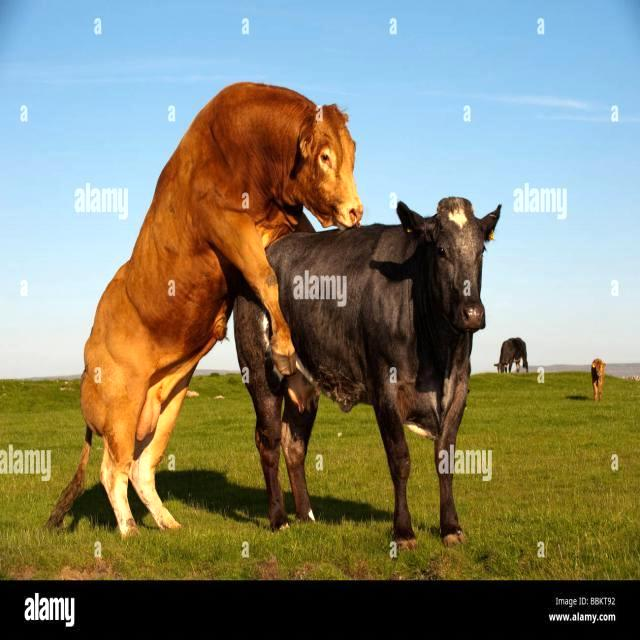COW: (48, 82, 362, 534), (234, 298, 315, 529)
